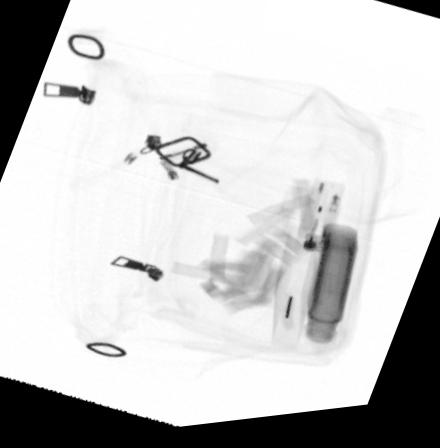Lighter: (296, 186, 345, 261)
